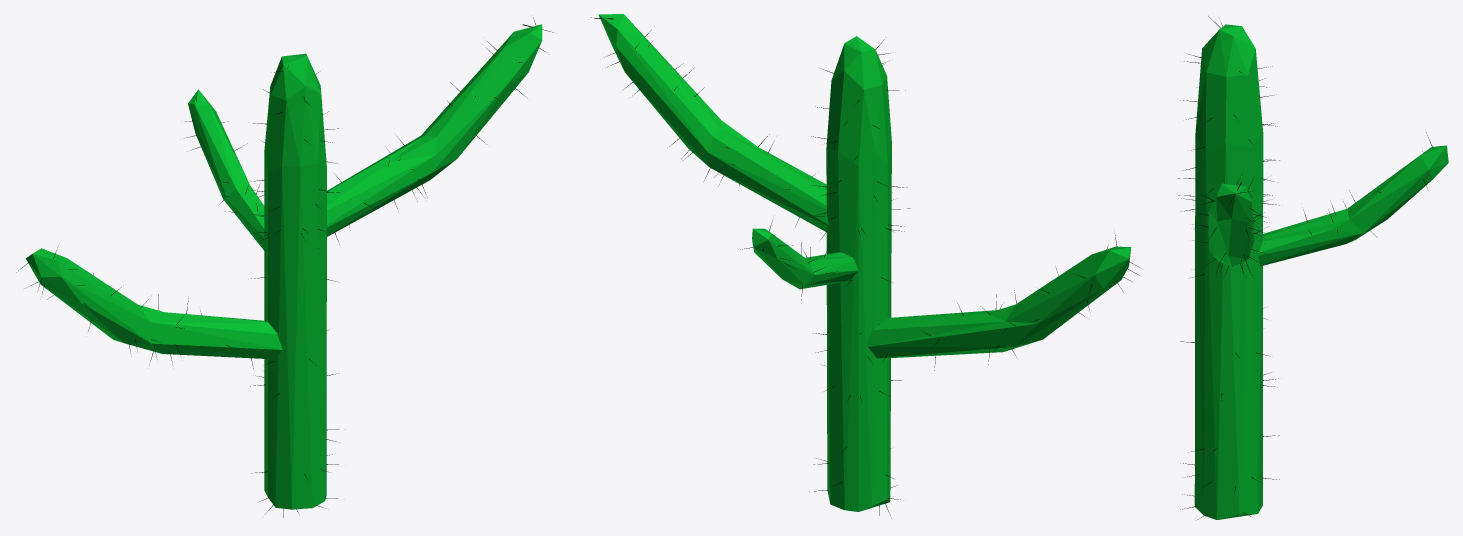
Rendered from Cactus.fbx.
The picture shows the model from 3 angles, left to right: view 1: azimuth 30°, elevation 25°; view 2: azimuth 150°, elevation 25°; view 3: azimuth 270°, elevation 25°; orthographic projection. The views are drawn at different scales.
Parts seen in each view (by area): view 1: Circle.001; view 2: Circle.001; view 3: Circle.001.
Boxes of the visible parts, left/top/right/bottom form: Circle.001: left=26, top=24, right=542, bottom=509; Circle.001: left=598, top=14, right=1131, bottom=511; Circle.001: left=1194, top=24, right=1448, bottom=519.
Size of the model in its own units: 1797 by 1468 by 726.
